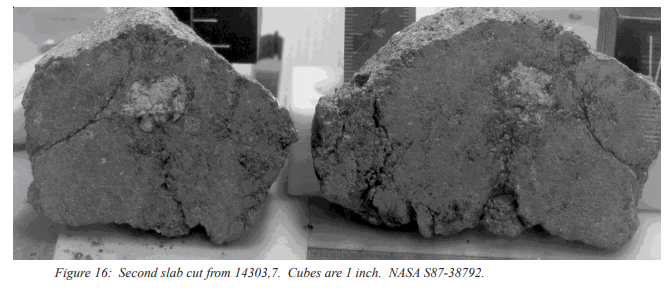Breccia: (321, 9, 658, 255), (21, 30, 297, 247)
